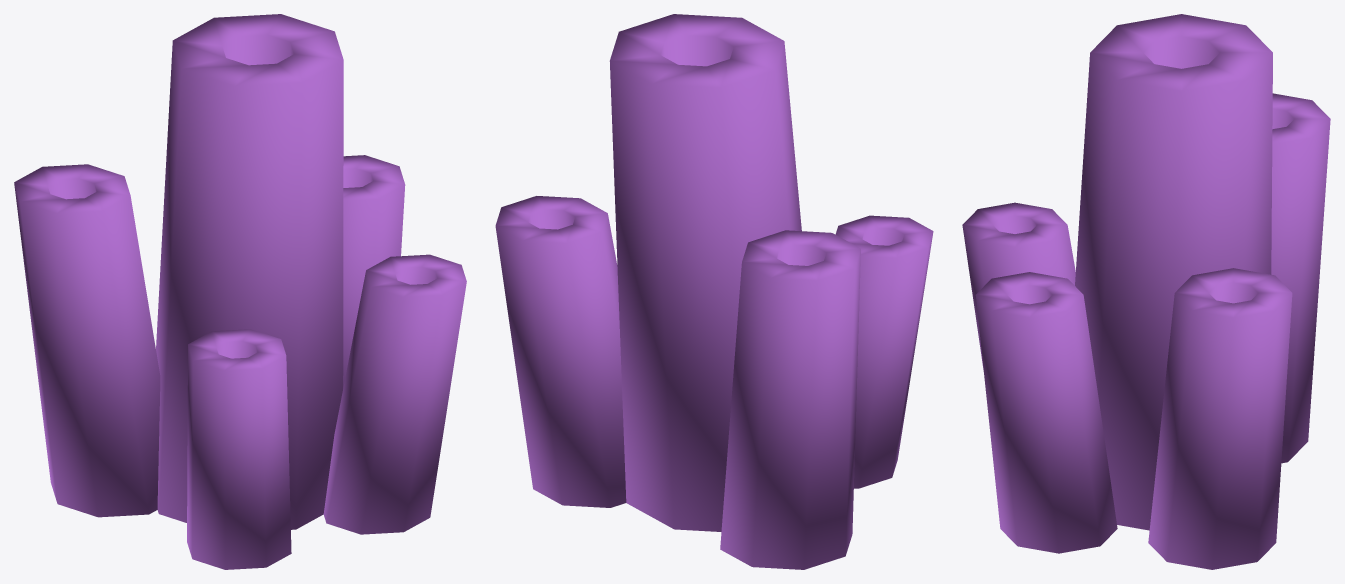
Rendered from Medium2.fbx.
3 renders of one model, left to right at view 1: azimuth 30°, elevation 25°; view 2: azimuth 150°, elevation 25°; view 3: azimuth 270°, elevation 25°, orthographic. The views are drawn at different scales.
Visible parts, largest first — view 1: Medium2; view 2: Medium2; view 3: Medium2.
Boxes of the visible parts, x1,y1,x2,y2 form: Medium2: (14,14,466,569); Medium2: (495,14,933,569); Medium2: (962,14,1330,569).
Size of the model in its own units: 3.25 by 3.7 by 2.76.
